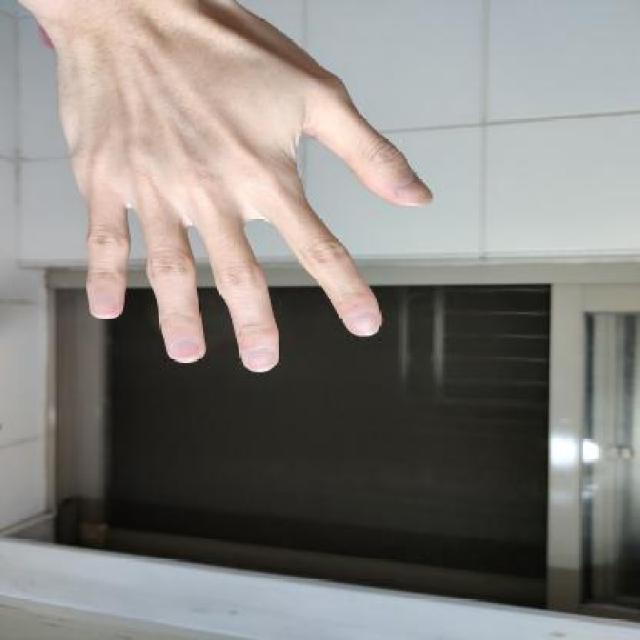bare_hand: (31, 0, 436, 389)
